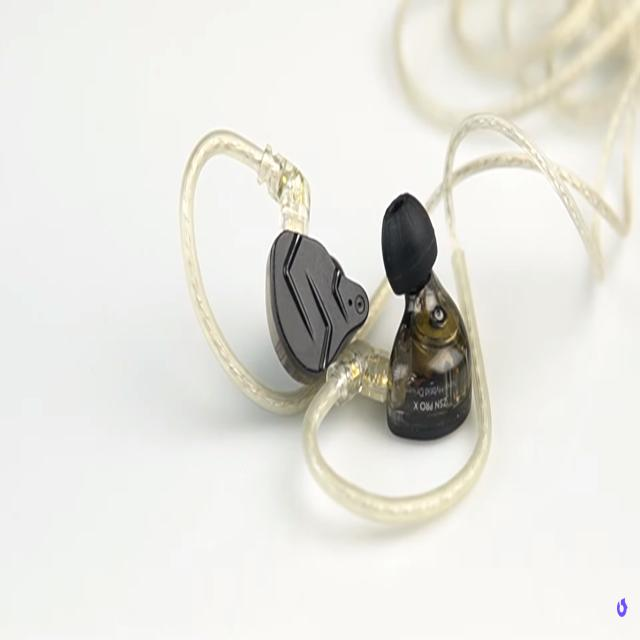Earphone: (177, 110, 639, 528)
